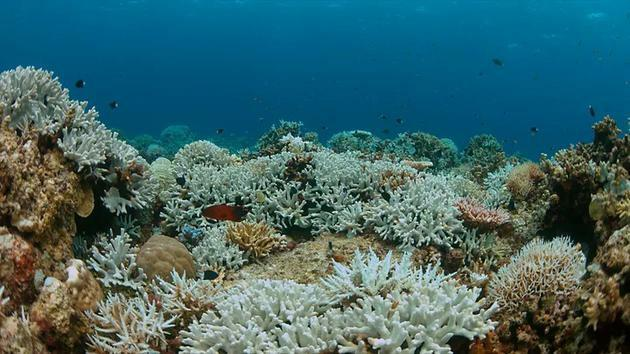bleached_corals: (152, 111, 473, 278), (181, 252, 498, 354), (0, 48, 174, 230), (86, 271, 220, 354), (479, 226, 596, 316), (386, 124, 465, 177), (152, 117, 196, 158), (482, 159, 516, 210), (329, 131, 380, 153)
